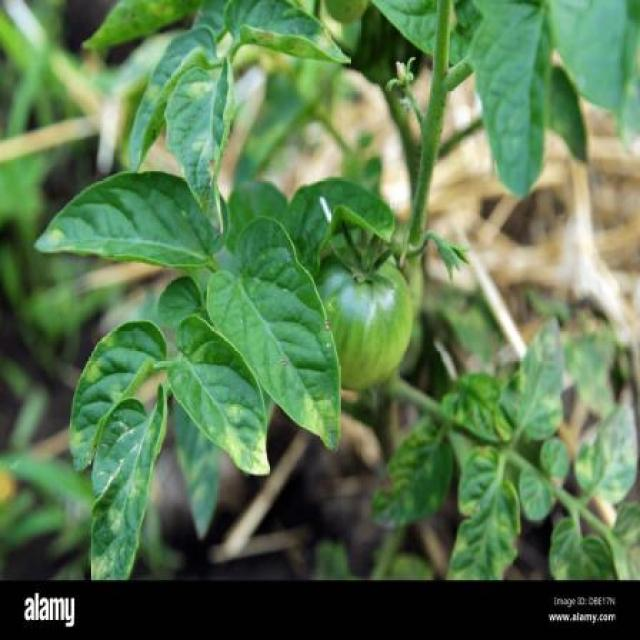Mosaic Virus: (205, 212, 345, 454), (32, 170, 232, 270), (165, 312, 272, 477), (87, 380, 169, 580), (68, 316, 169, 475), (127, 21, 217, 176), (166, 55, 236, 236), (444, 444, 523, 580), (491, 310, 566, 441), (369, 418, 454, 529), (225, 0, 352, 67), (573, 381, 640, 506)
